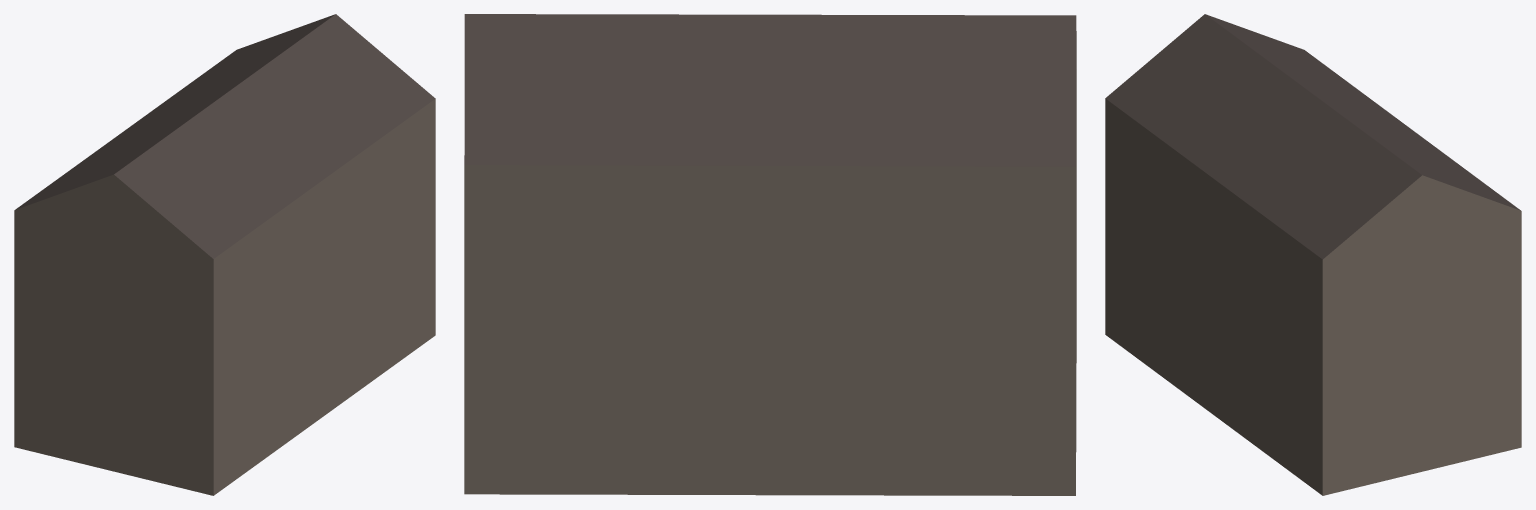
The picture shows the model from 3 angles, left to right: view 1: azimuth 30°, elevation 25°; view 2: azimuth 150°, elevation 25°; view 3: azimuth 270°, elevation 25°; orthographic projection. The views are drawn at different scales.
Visible parts, largest first — view 1: HP-w859088521; view 2: HP-w859088521; view 3: HP-w859088521.
Part boxes in pixels (x1=…): HP-w859088521: x1=14, y1=14, x2=435, y2=495; HP-w859088521: x1=464, y1=14, x2=1076, y2=495; HP-w859088521: x1=1105, y1=14, x2=1521, y2=495.
Bounding box in the file's own units: 17.12 × 11.29 × 14.37.
